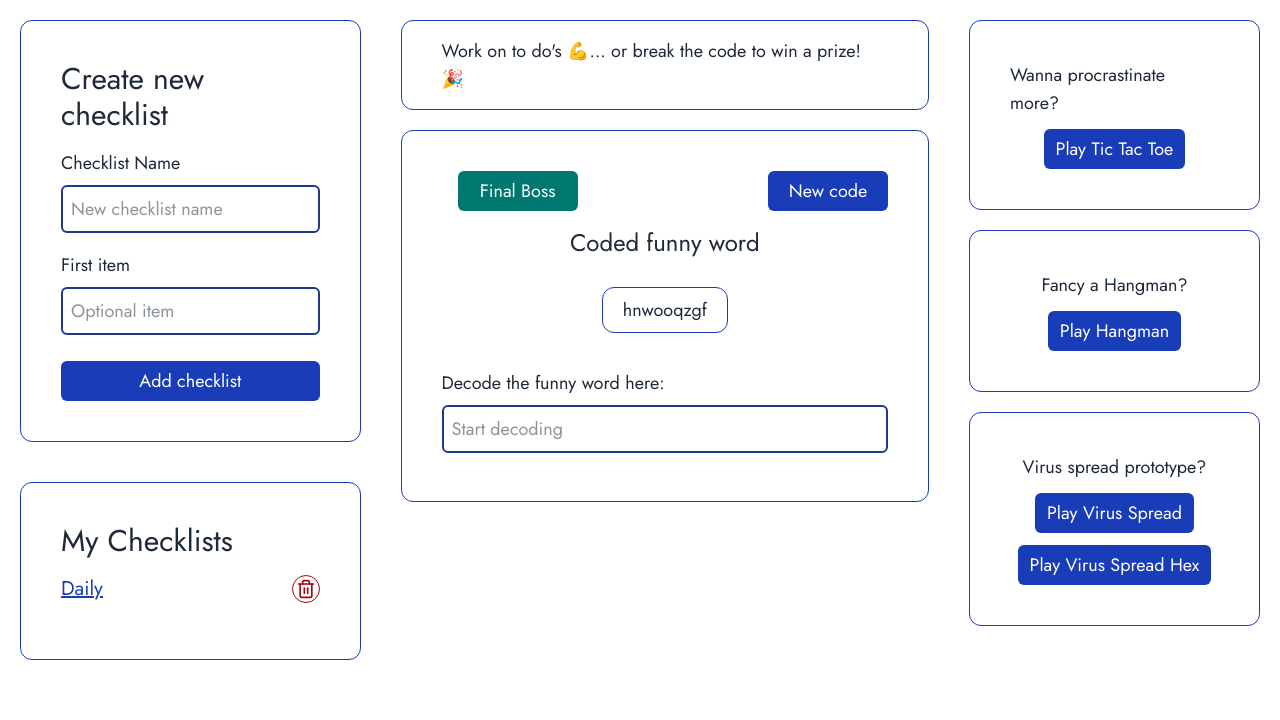
App › removes a checklist when the delete API succeeds
Expected: the list item "Daily" is shown, [61,575,320,603]
Click the 8th button at point(306, 589), box [292,575,320,603]
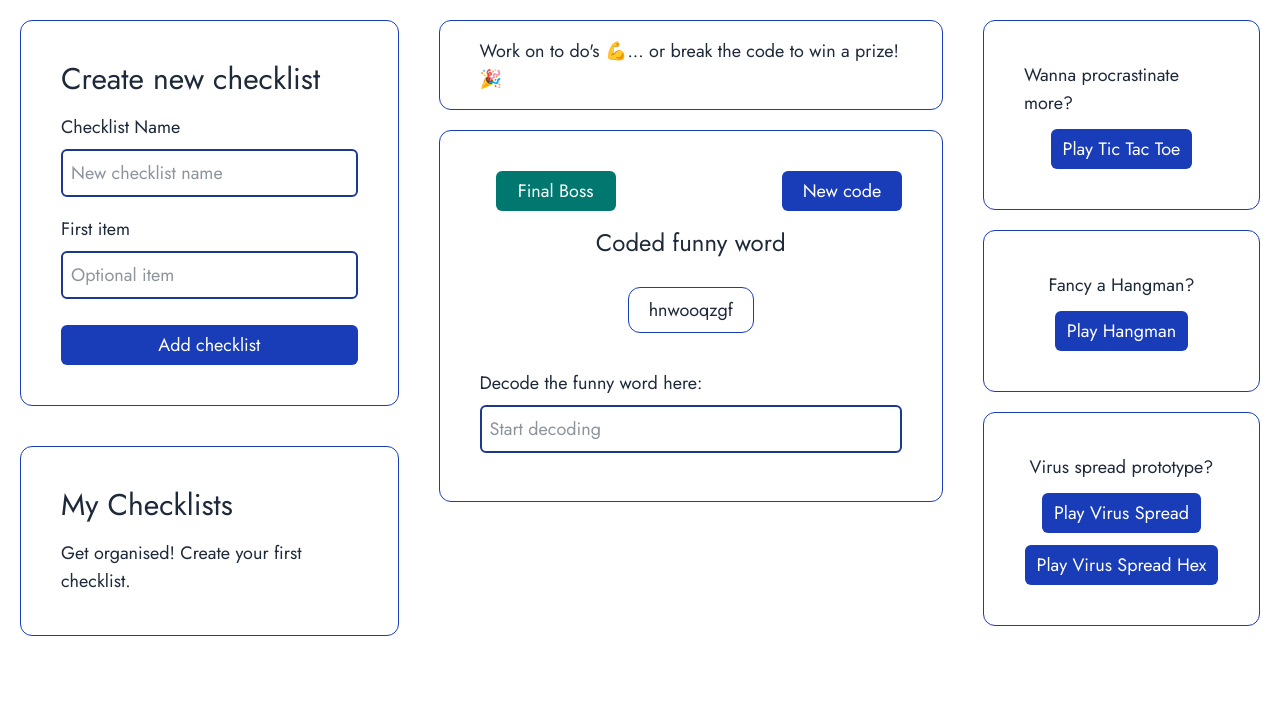
Expected: the link "Daily" is gone
